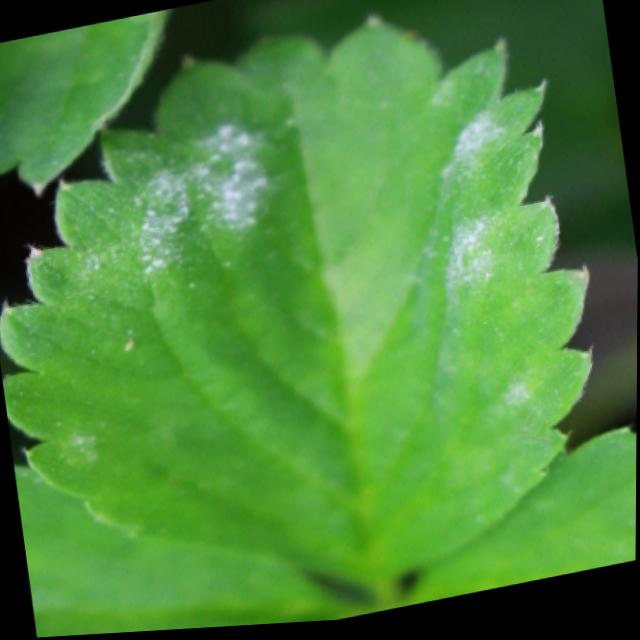Powdery Mildew Leaf: (0, 18, 595, 596), (0, 10, 172, 198)
